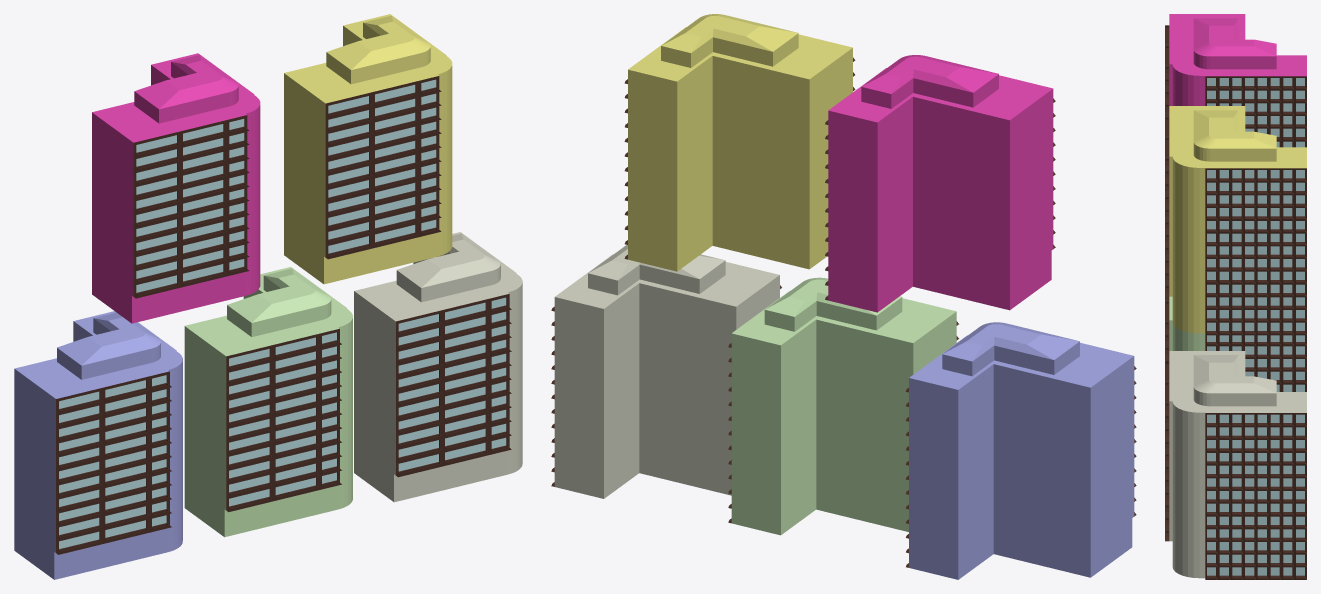
Rendered from Big Boi.fbx.
3 renders of one model, left to right at view 1: azimuth 30°, elevation 25°; view 2: azimuth 150°, elevation 25°; view 3: azimuth 270°, elevation 25°, orthographic. The views are drawn at different scales.
Visible parts, largest first — view 1: Cube.004, Cube.003, Cube.001, Cube, Cube.002; view 2: Cube.001, Cube.004, Cube.003, Cube, Cube.002; view 3: Cube.003, Cube.002, Cube.004, Cube.
Part boxes in pixels (x1,y1,x2,y2): Cube.004: (92, 53, 260, 323); Cube.003: (284, 14, 452, 284); Cube.001: (14, 311, 182, 579); Cube: (184, 267, 352, 537); Cube.002: (354, 232, 522, 502); Cube.001: (906, 322, 1136, 579); Cube.004: (825, 55, 1055, 312); Cube.003: (624, 14, 855, 271); Cube: (728, 277, 958, 535); Cube.002: (551, 245, 781, 498); Cube.003: (1165, 106, 1306, 335); Cube.002: (1165, 351, 1306, 579); Cube.004: (1165, 14, 1306, 147); Cube: (1165, 296, 1306, 391).
Size of the model in its own units: 20955 by 18437 by 5856.
